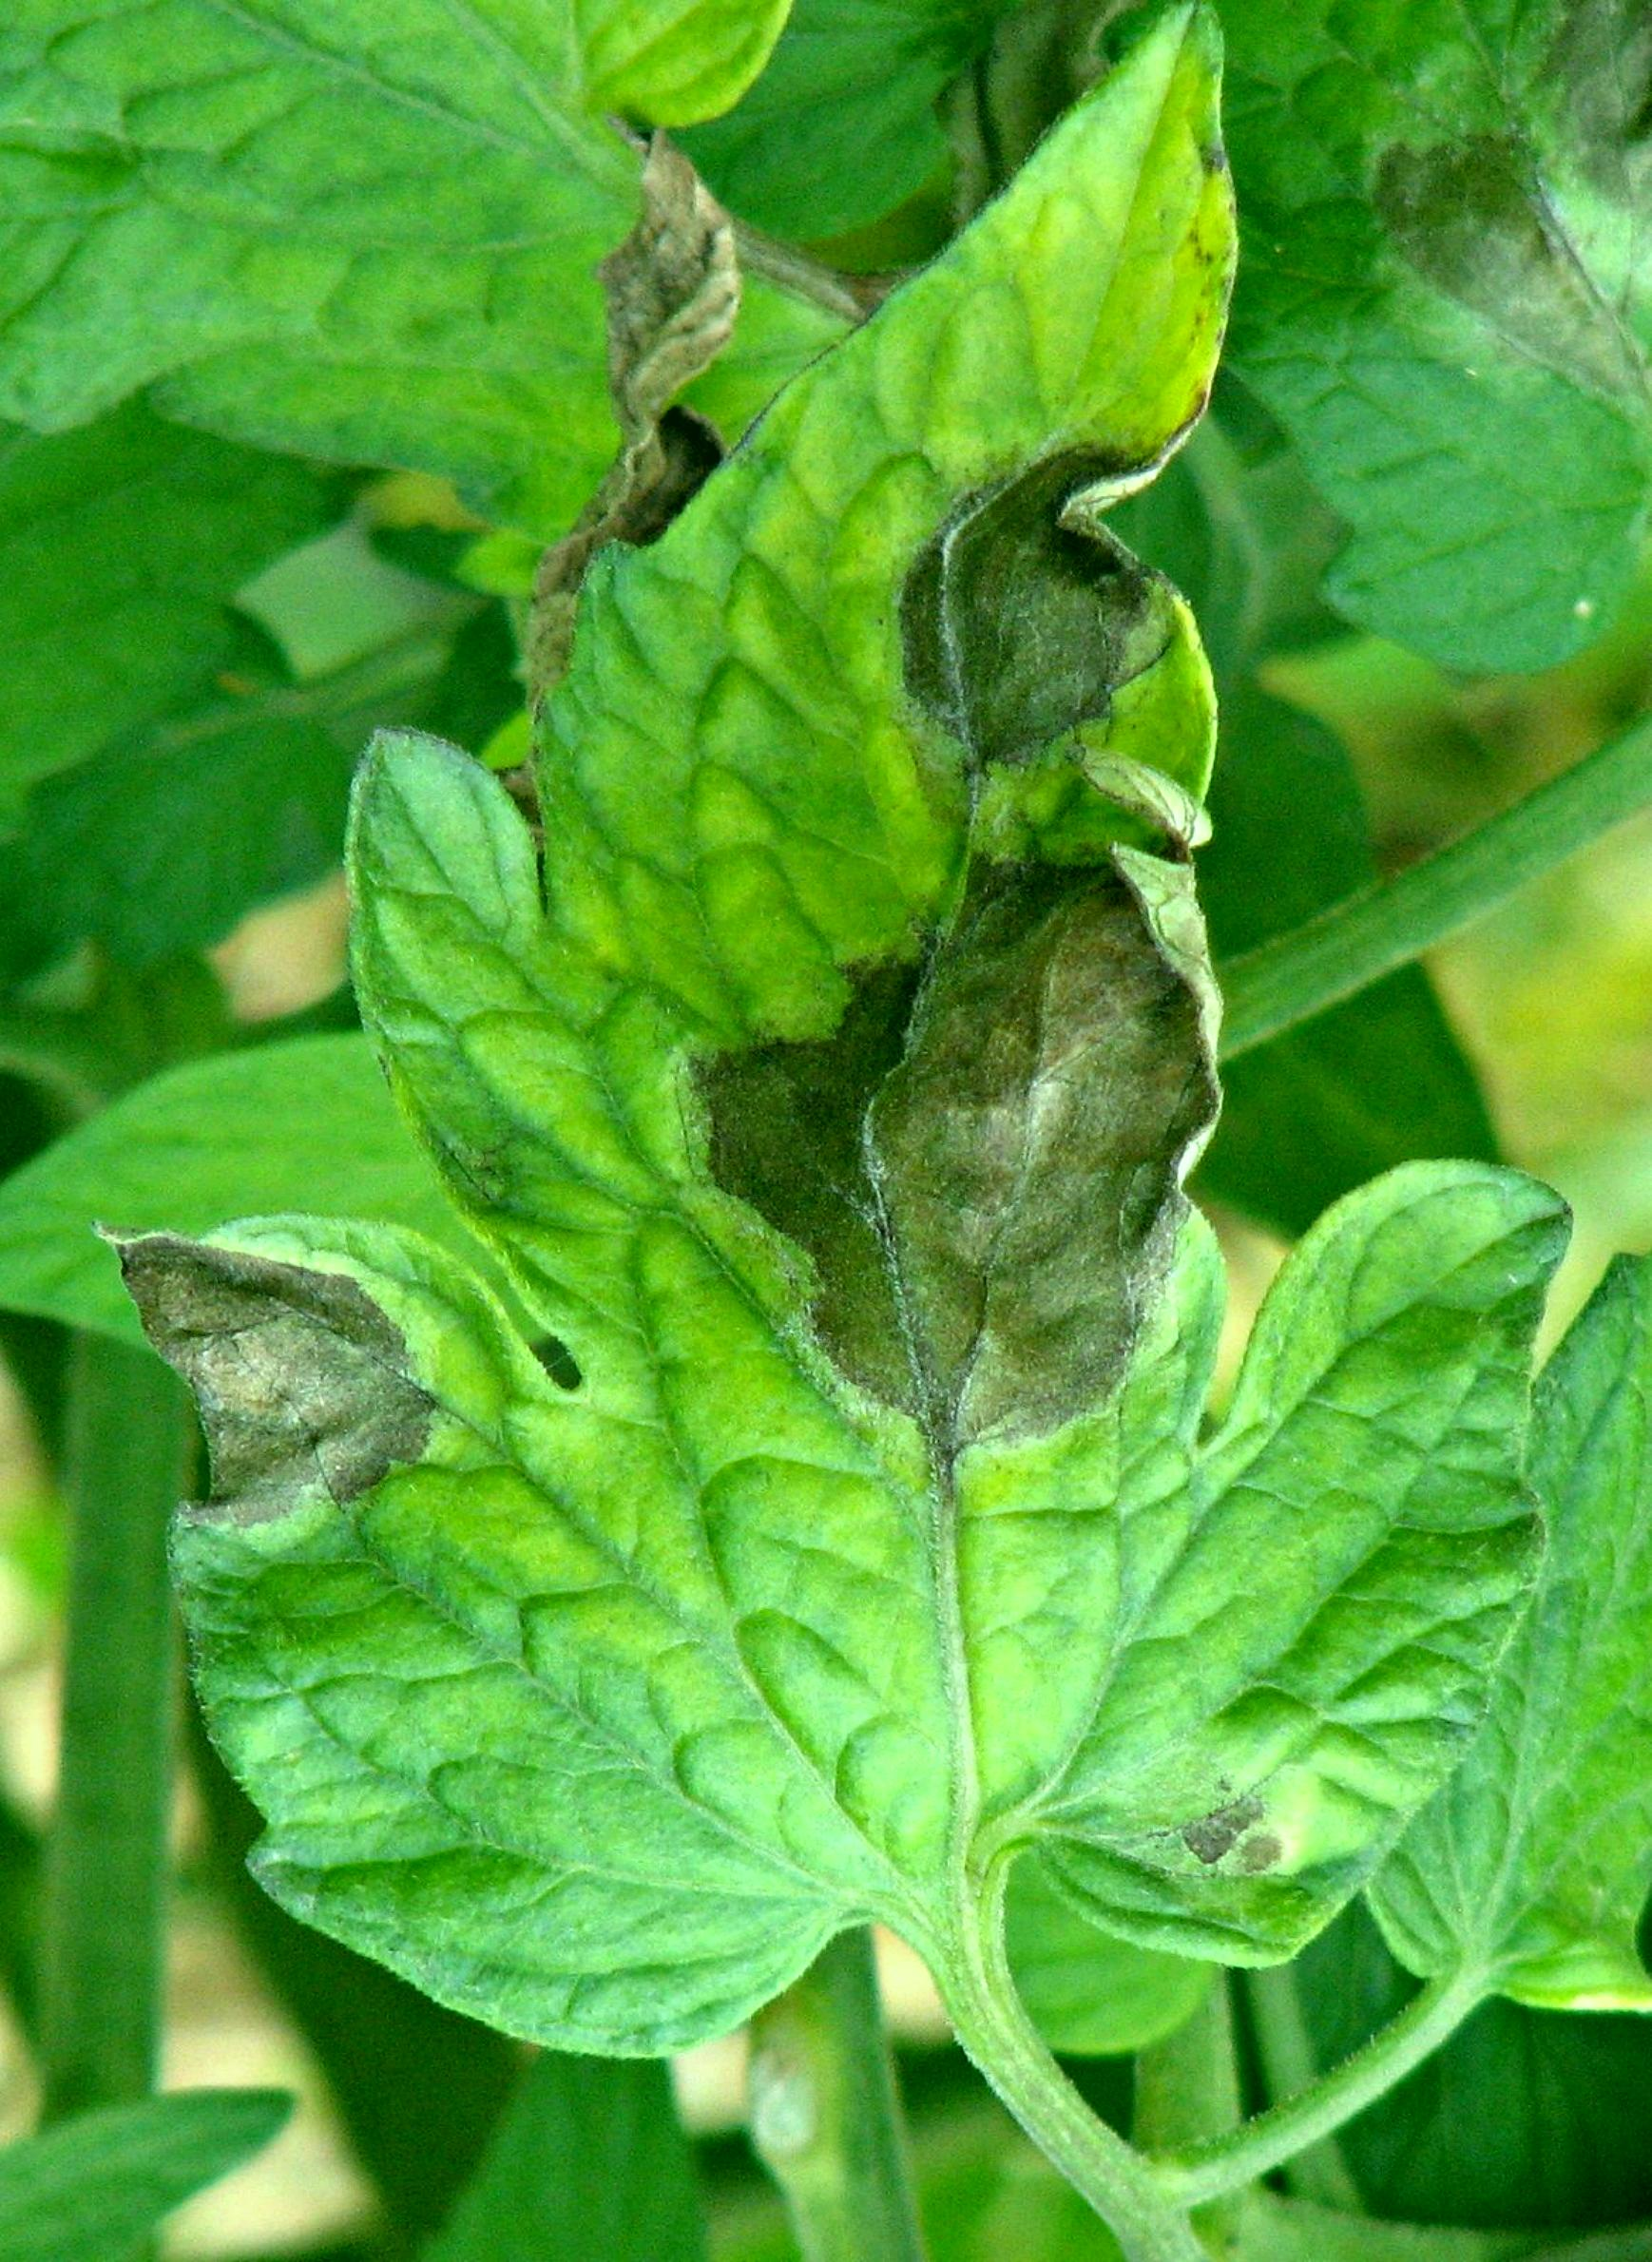Tomato leaf late blight: (118, 37, 1524, 2116)
